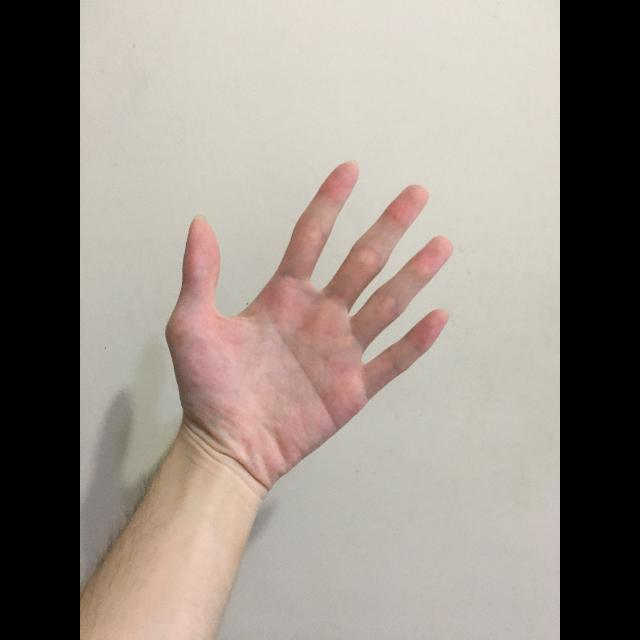bare_hand: (151, 154, 460, 508)
